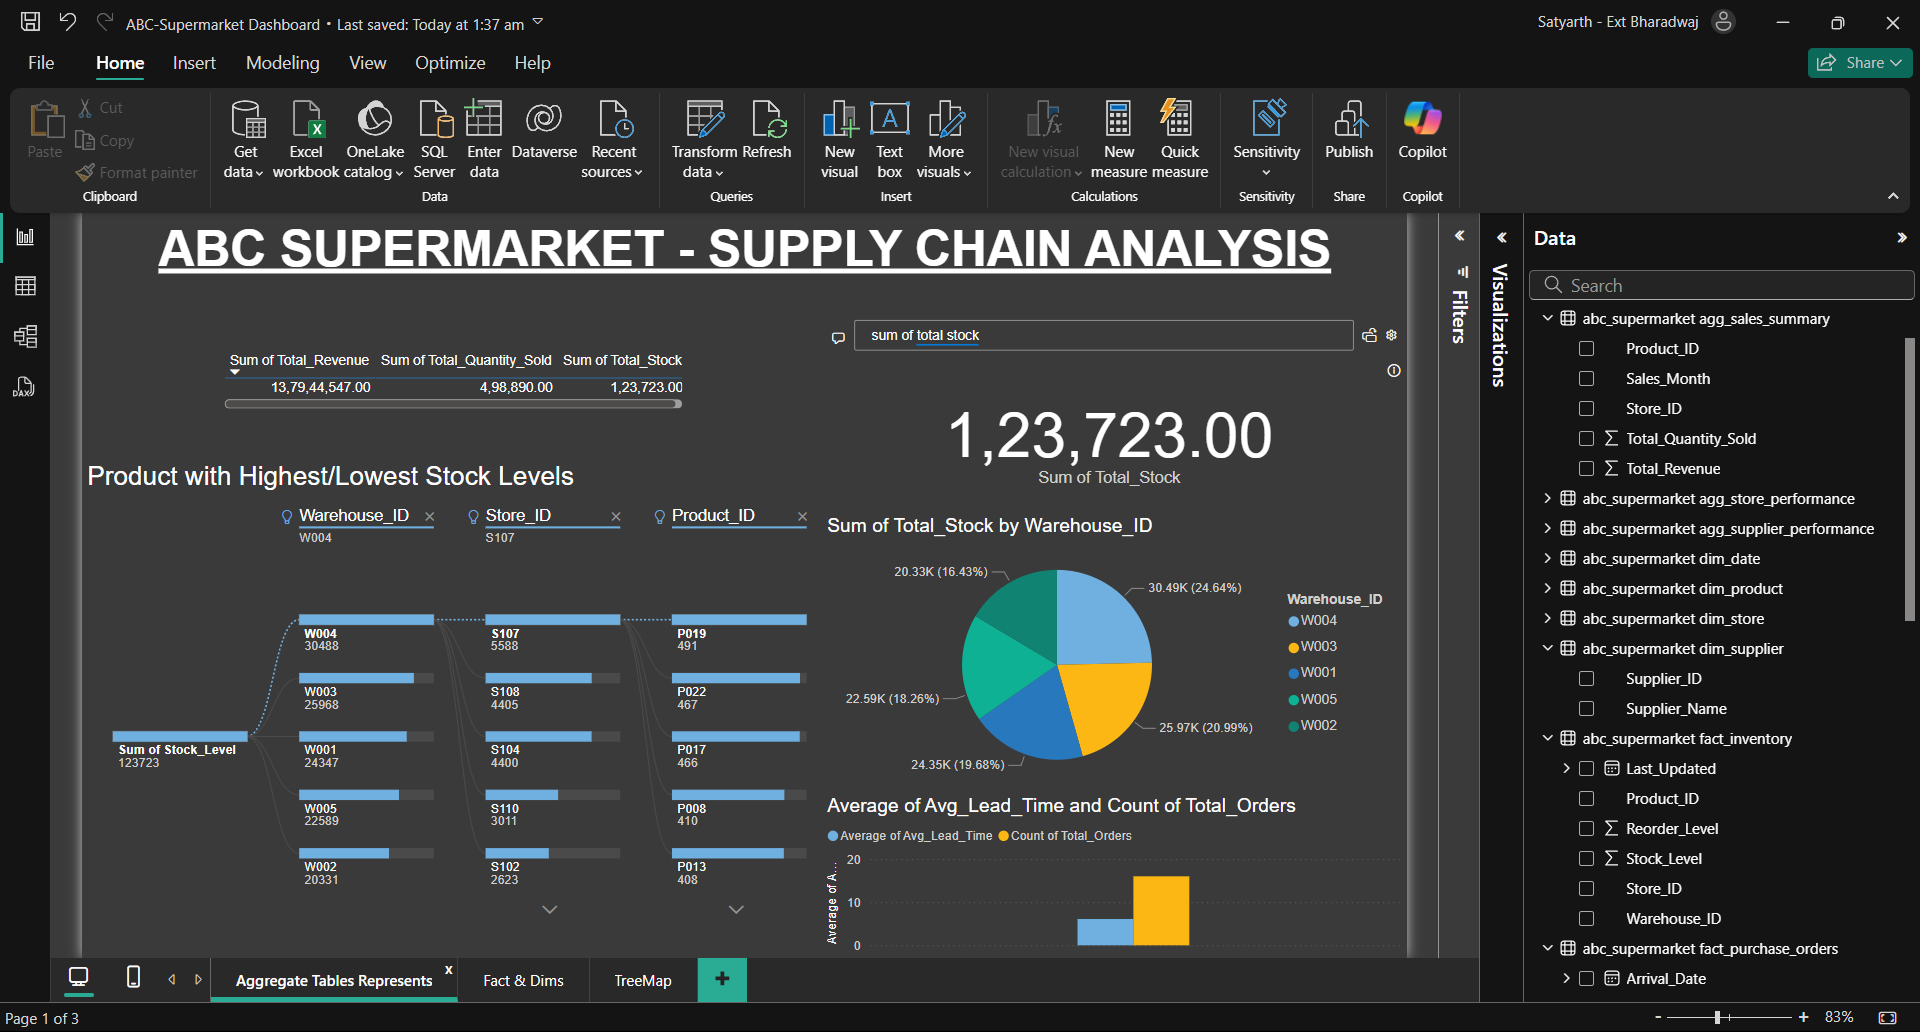

This screenshot's page, from the dashboard's own definition file:
{"tool":"powerbi","page":{"name":"Aggregate Tables Represents","canvas":[1280,720],"ordinal":0},"visuals":[{"type":"tableEx","fields":{"Values":["Sum(abc_supermarket agg_sales_summary.Total_Revenue)","Sum(abc_supermarket agg_sales_summary.Total_Quantity_Sold)","Sum(abc_supermarket agg_inventory_summary.Total_Stock)"]},"box":[131.7,127.6,452.8,65.9],"z":0},{"type":"decompositionTreeVisual","title":"Product with Highest/Lowest Stock Levels","fields":{"Analyze":["Sum(abc_supermarket fact_inventory.Stock_Level)"],"ExplainBy":["abc_supermarket fact_inventory.Warehouse_ID","abc_supermarket fact_inventory.Store_ID","abc_supermarket fact_inventory.Product_ID"]},"box":[0,238.6,714.6,480.9],"z":1000},{"type":"clusteredColumnChart","fields":{"Y":["Avg(abc_supermarket agg_supplier_performance.Avg_Lead_Time)","Count(abc_supermarket agg_supplier_performance.Total_Orders)"]},"box":[714.6,561.7,565.3,159.1],"z":2000},{"type":"pieChart","fields":{"Category":["abc_supermarket agg_inventory_summary.Warehouse_ID"],"Y":["Sum(abc_supermarket agg_inventory_summary.Total_Stock)"]},"box":[714.6,291.2,565.3,270.4],"z":3000},{"type":"textbox","box":[0,2.7,1280.3,75.5],"z":4000},{"type":"qnaVisual","box":[714.6,78.3,565.3,212.9],"z":5000}]}

Visuals, with their boxes on the page's 1280x720 design canvas (x1, y1, x2, y2). These are canvas units, not pixel positions in the 1920x1032 screenshot, which may show the page scaled, cropped or inside an application window:
tableEx - Sum(abc_supermarket agg_sales_summary.Total_Revenue) x Sum(abc_supermarket agg_sales_summary.Total_Quantity_Sold): (x1=132, y1=128, x2=584, y2=194)
"Product with Highest/Lowest Stock Levels" decompositionTreeVisual: (x1=0, y1=239, x2=715, y2=720)
clusteredColumnChart - Avg(abc_supermarket agg_supplier_performance.Avg_Lead_Time) x Count(abc_supermarket agg_supplier_performance.Total_Orders): (x1=715, y1=562, x2=1280, y2=721)
pieChart - abc_supermarket agg_inventory_summary.Warehouse_ID x Sum(abc_supermarket agg_inventory_summary.Total_Stock): (x1=715, y1=291, x2=1280, y2=562)
textbox: (x1=0, y1=3, x2=1280, y2=78)
qnaVisual: (x1=715, y1=78, x2=1280, y2=291)
